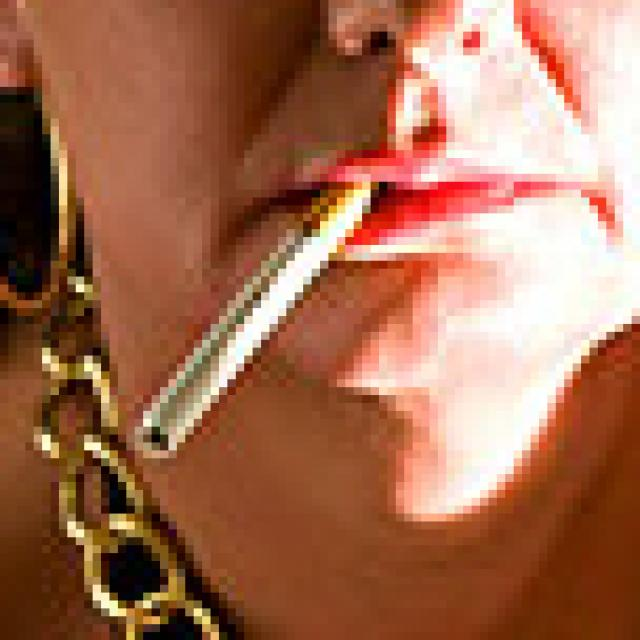smoking: (131, 177, 371, 459)
